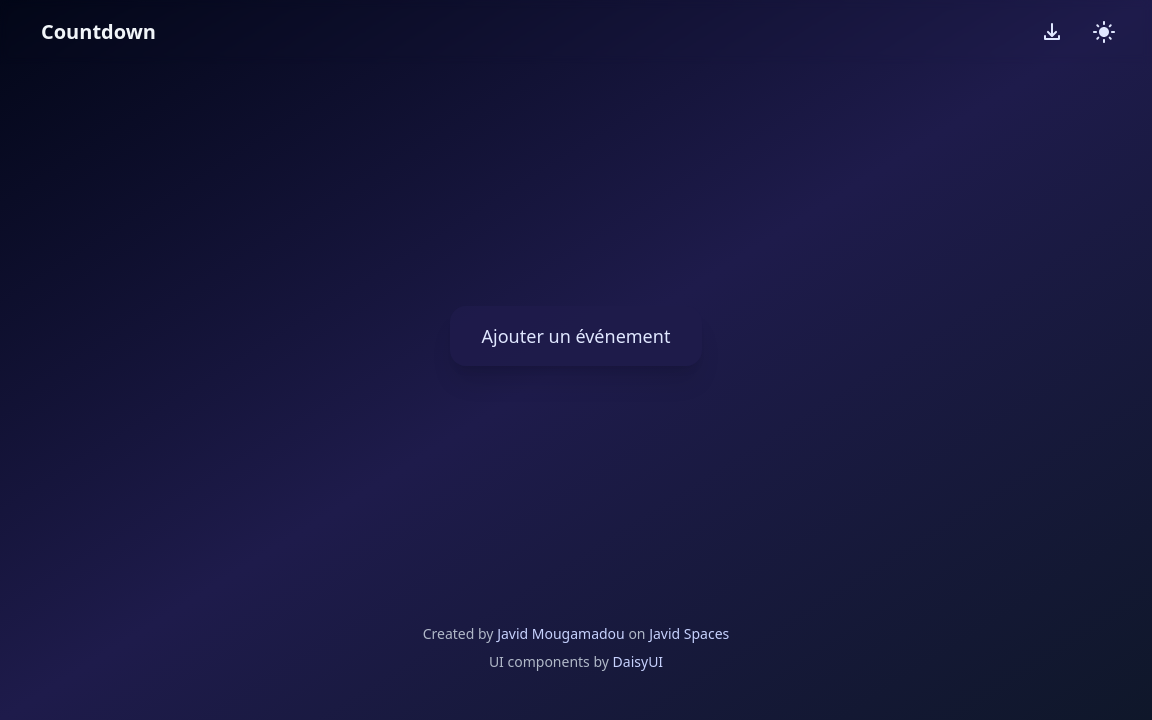
Scenario: App › ouvre le formulaire après clic sur le CTA
Click the button "Ajouter un événement": {"x": 576, "y": 336} [450,80,702,592]
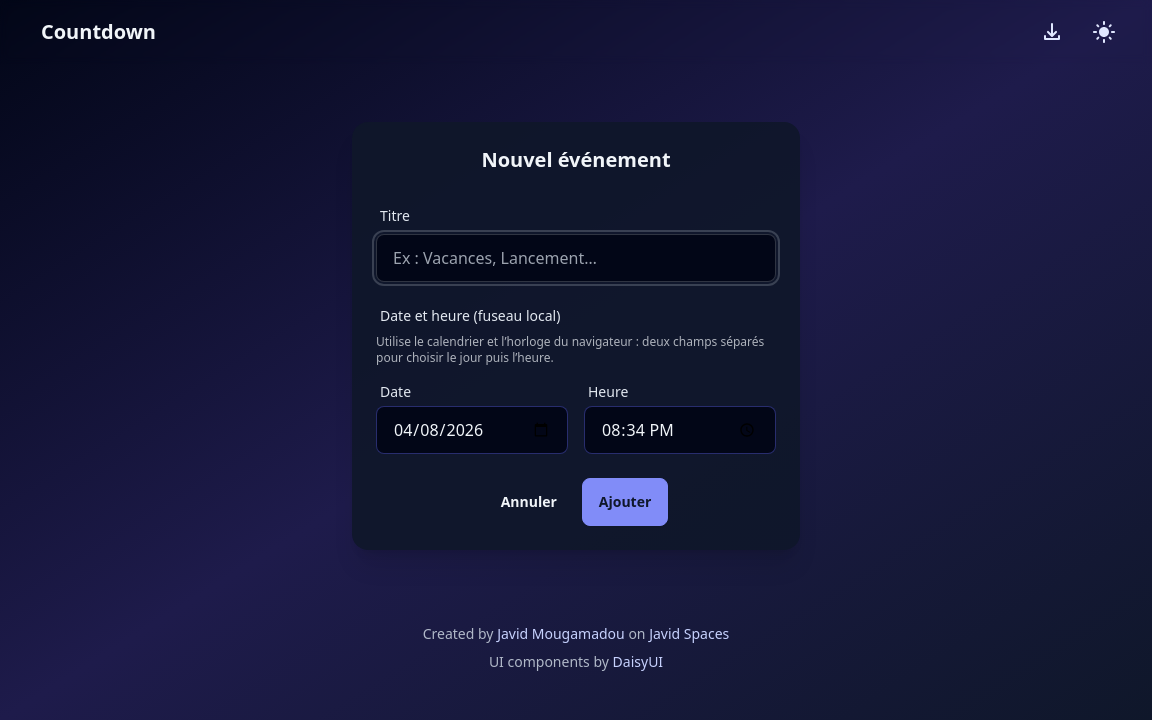
Now the heading "Nouvel événement" is shown, box [481,146,670,174]
